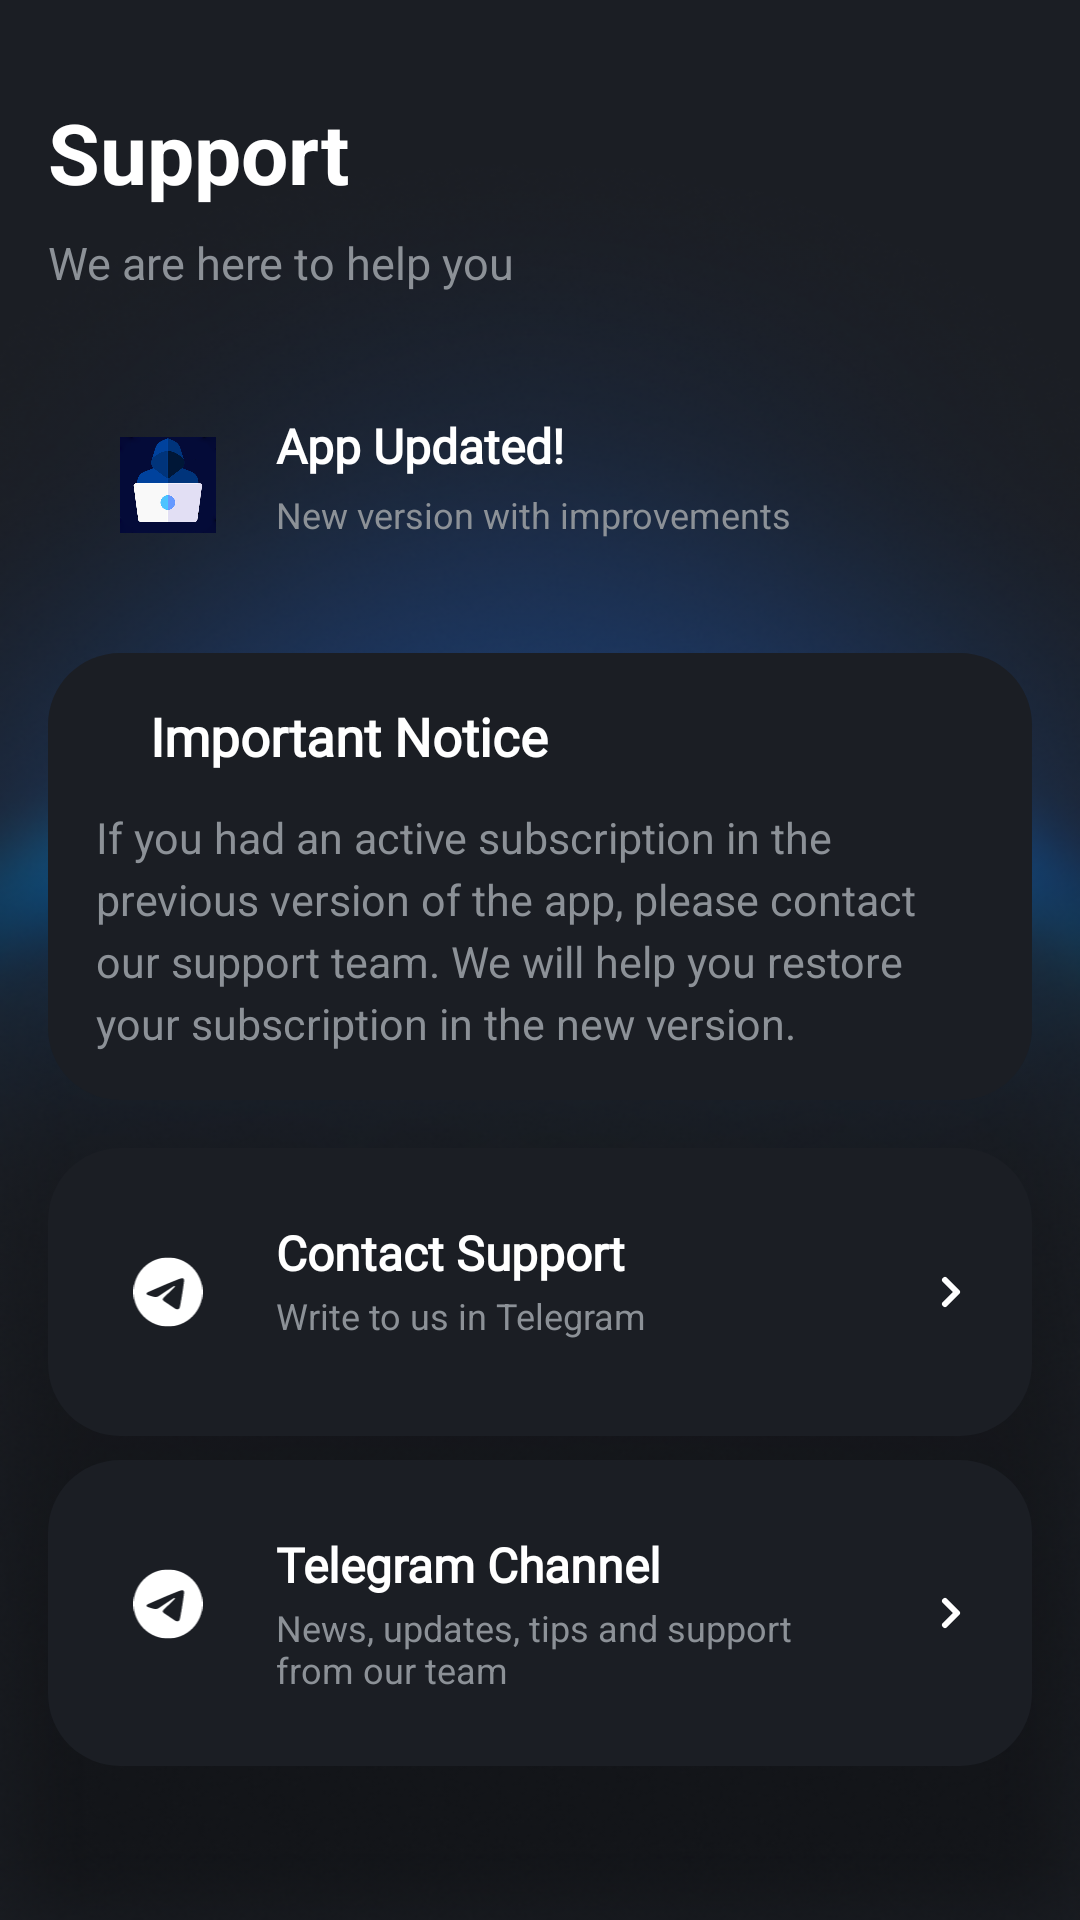

Icon bounding boxes for this 1080 × 1920 phone screenshot, format (x1, y1, x2, y2):
chevron right: (942, 1277, 960, 1307), (942, 1598, 960, 1628)
